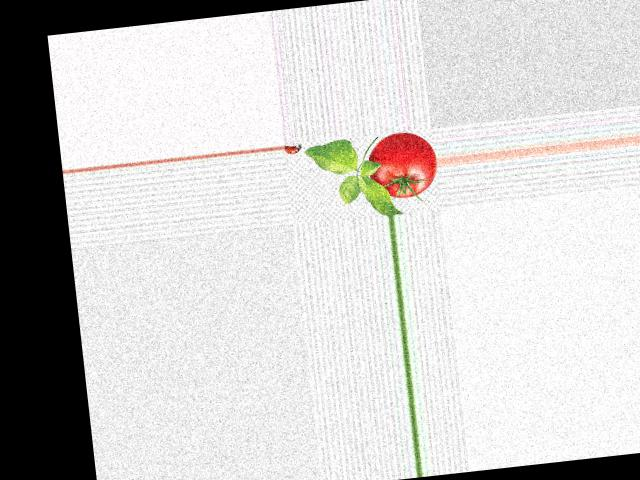tomato: (365, 128, 440, 201)
